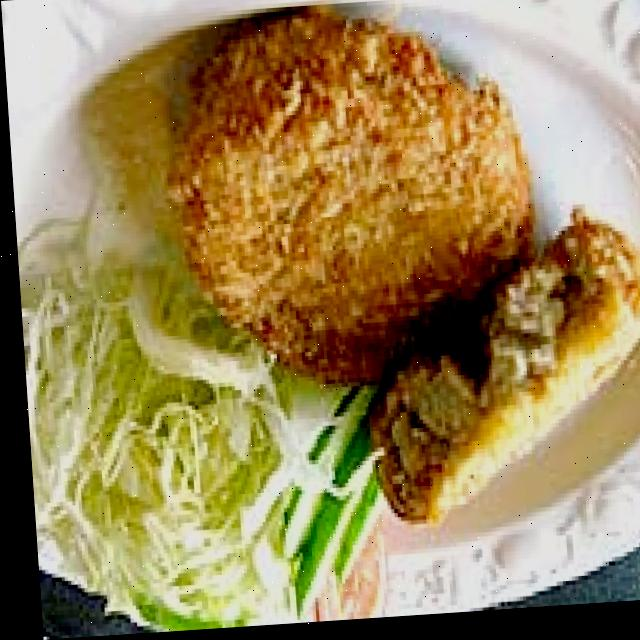炸货点心: (149, 0, 640, 549)
